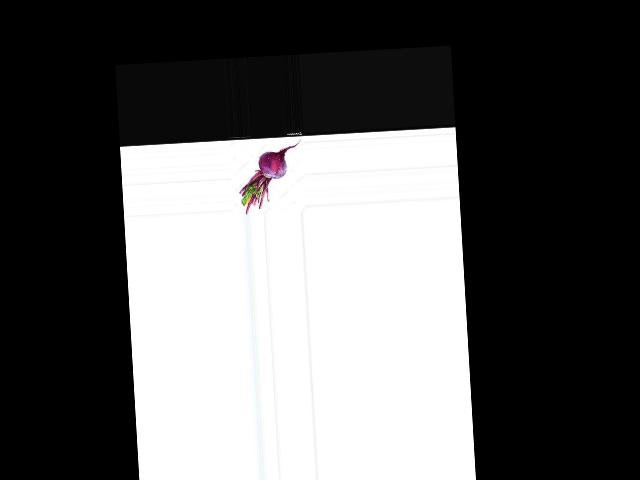beet: (236, 139, 304, 215)
